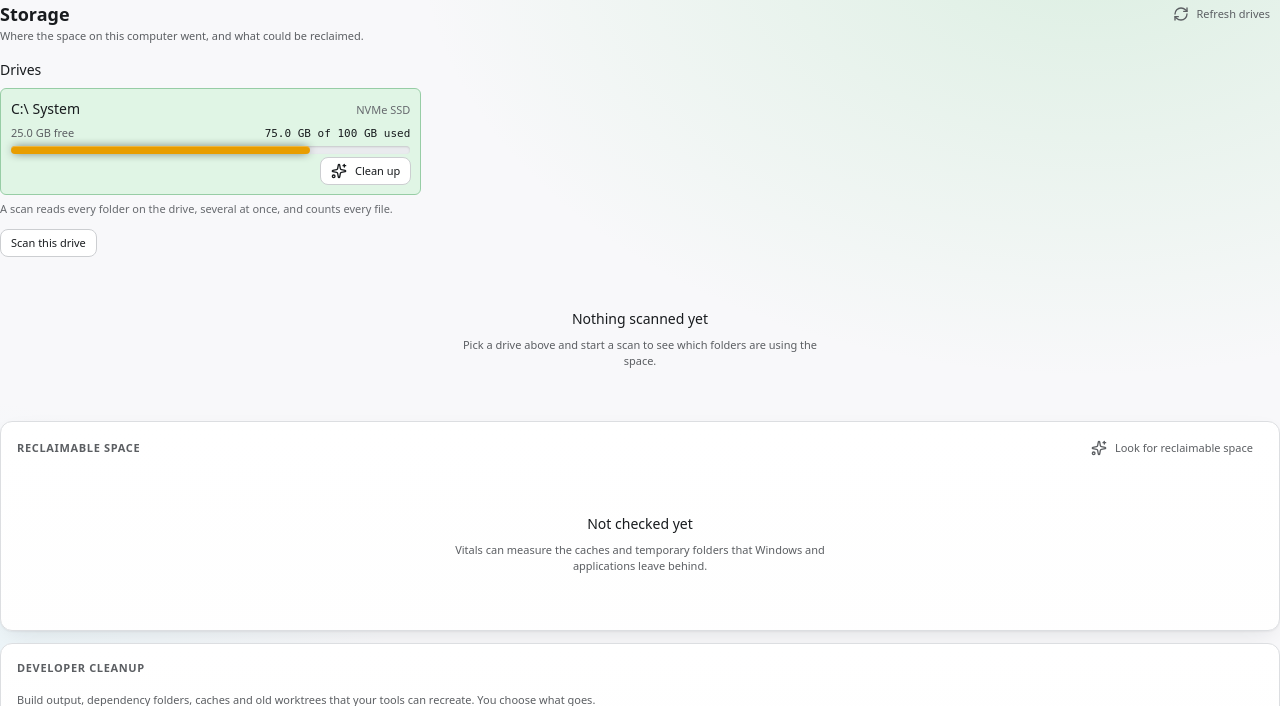
Scenario: StorageScreen › the review basket › adds from the largest-files and largest-folders views
Expected: the heading "Storage" is shown, [0,2,70,26]
Click the button "Scan this drive".
click(48, 243)  # box [0,229,97,257]
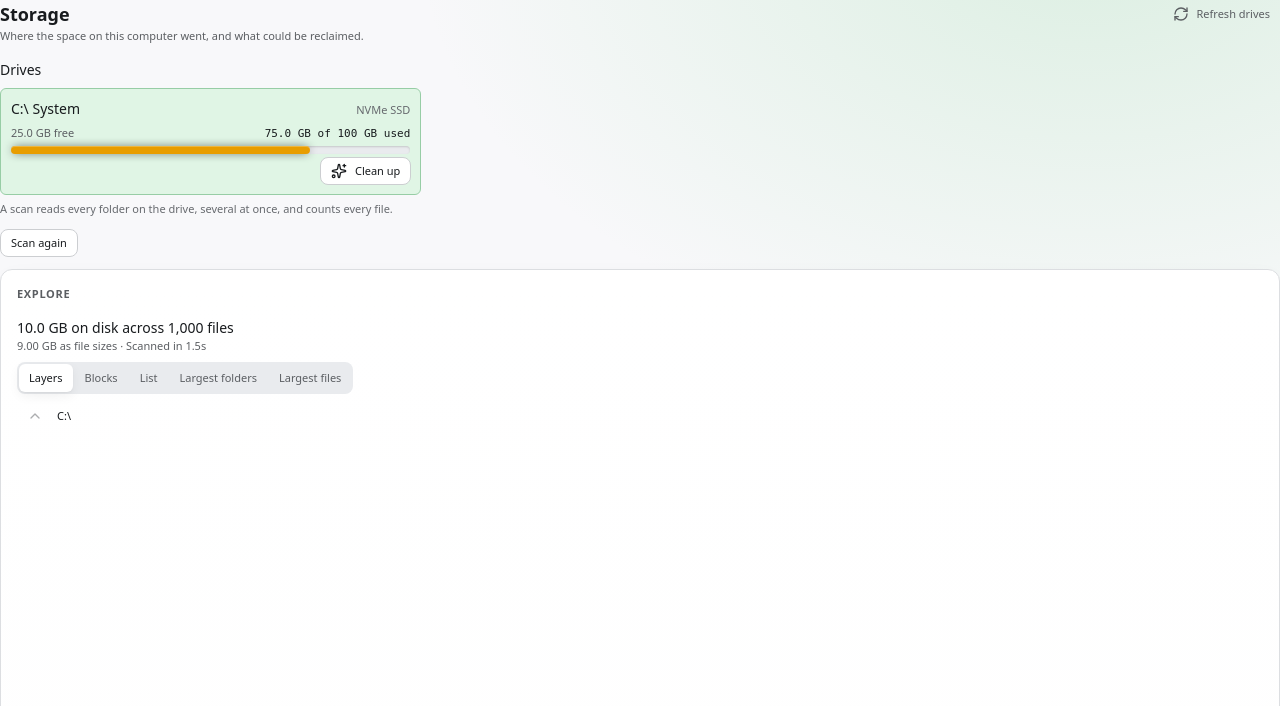
Result: the heading "Explore" is shown at [17,286,70,301]
Click the radio button labelled "Largest files".
click(310, 378)  # box [269,364,351,392]
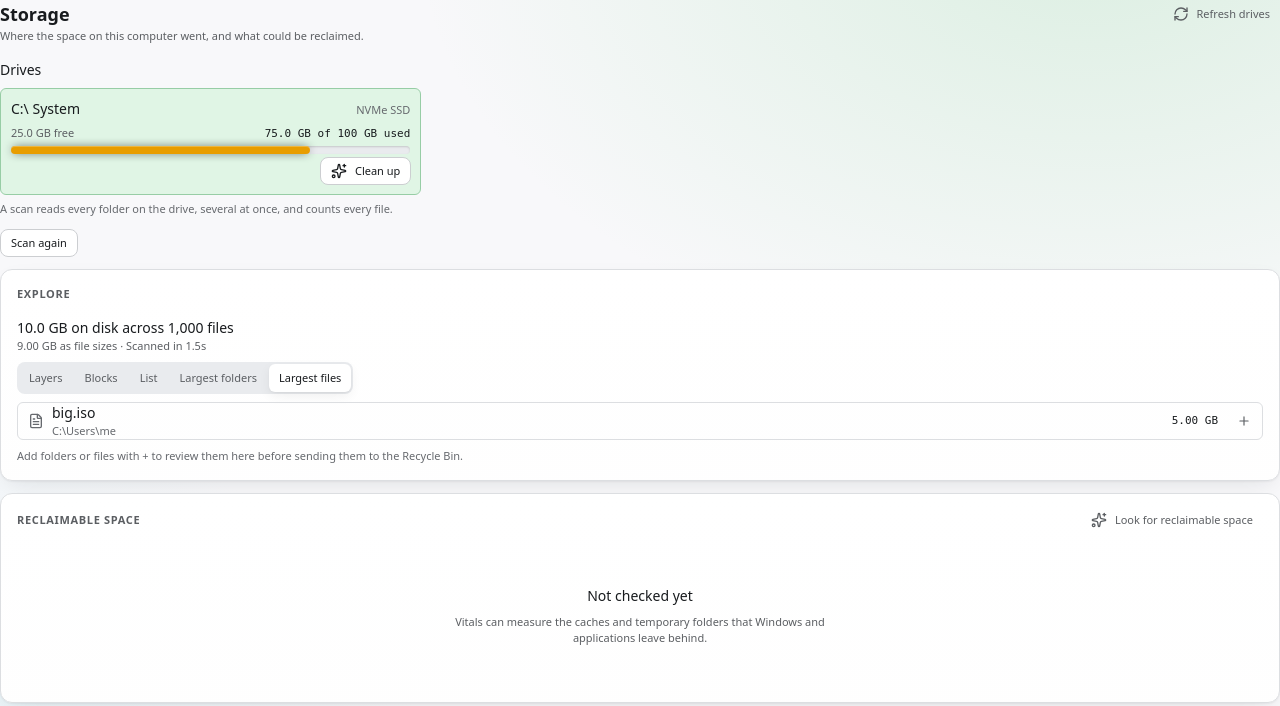
Click the button named "Add big.iso to review".
click(1244, 421)  # box [1232,409,1256,433]
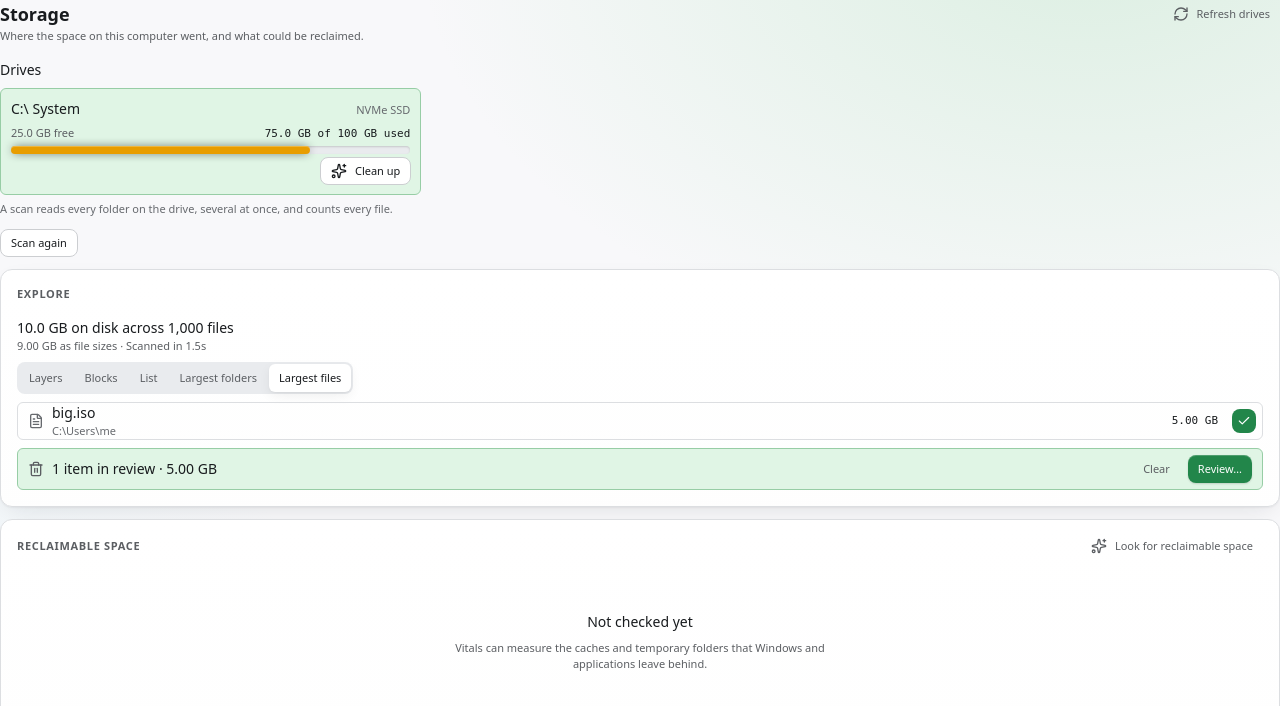
Click the radio button labelled "Largest folders".
click(218, 378)  # box [170,364,267,392]
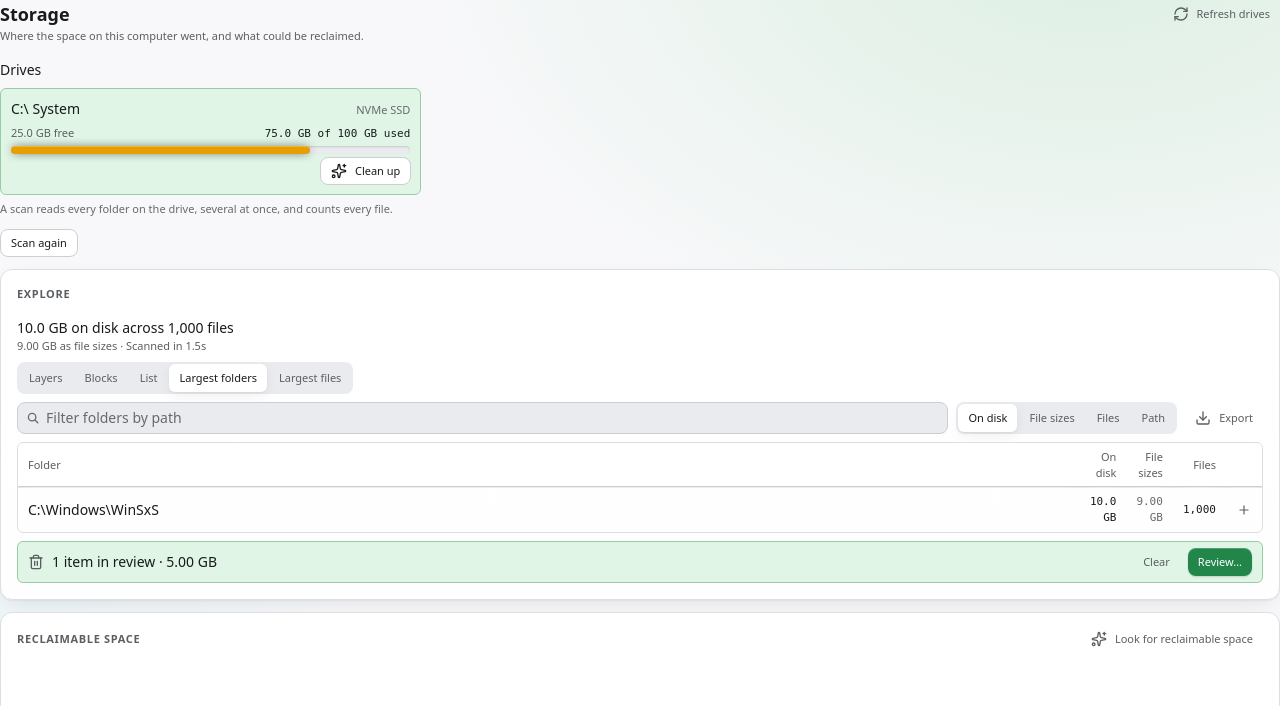
Click the button named "Add WinSxS to review".
click(1244, 510)  # box [1232,498,1256,522]
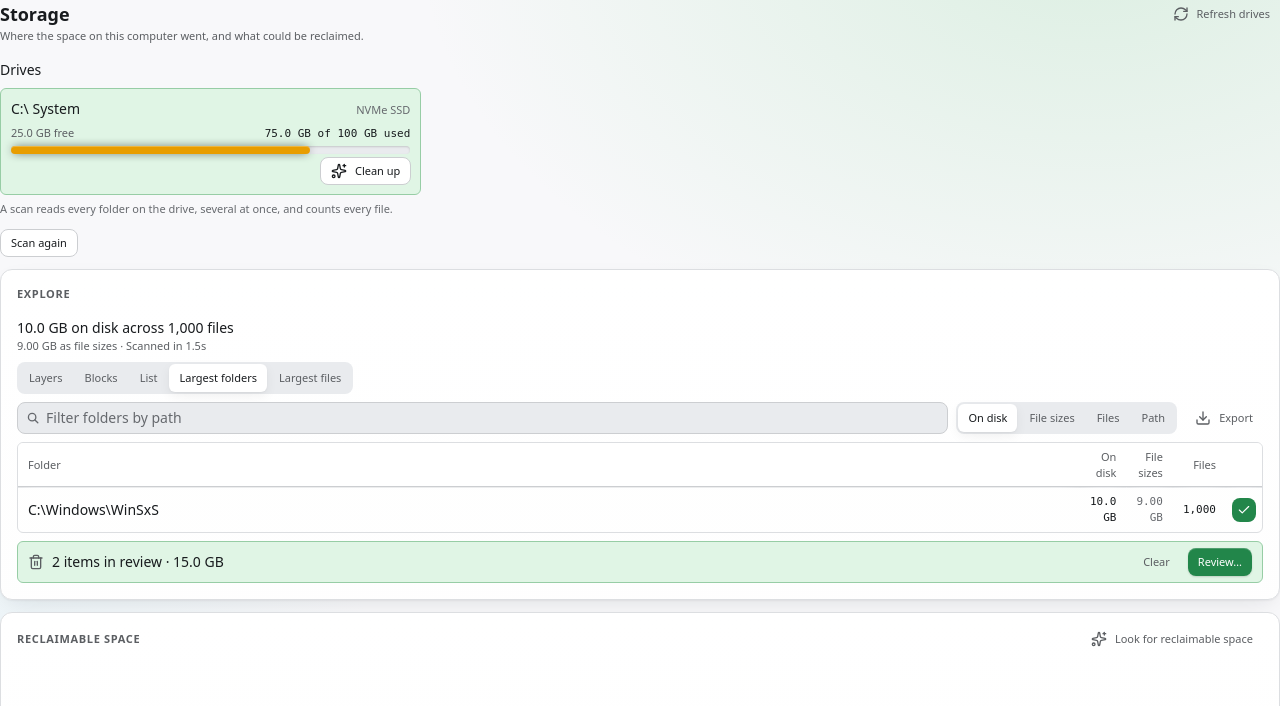
Result: the element named "To review" shows "2 items in review" at [52,552,224,571]
